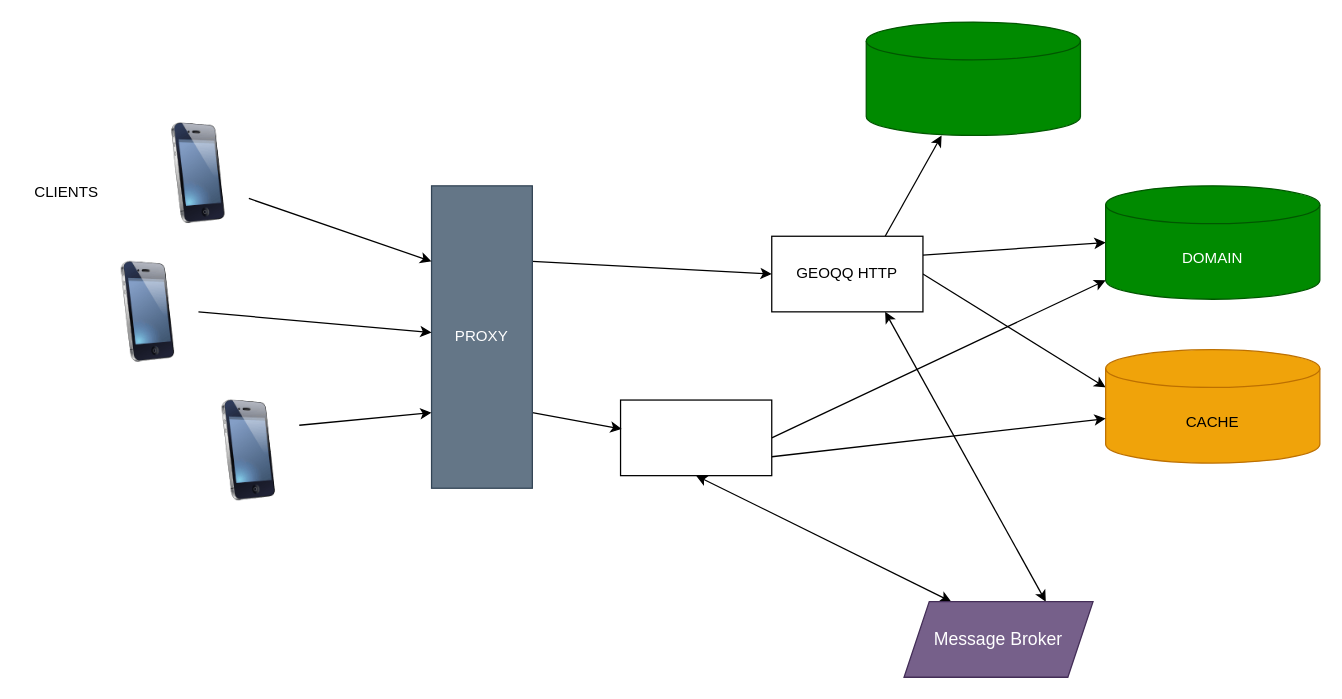
The diagram is 1342 pixels wide and 699 high, and some of its shapes have lost their labels. Here are the shapes that lost their labels. From the top down, the centre of each, then its label:
At (972,78): "FILE".
At (695,437): "GEOQQ WS".
